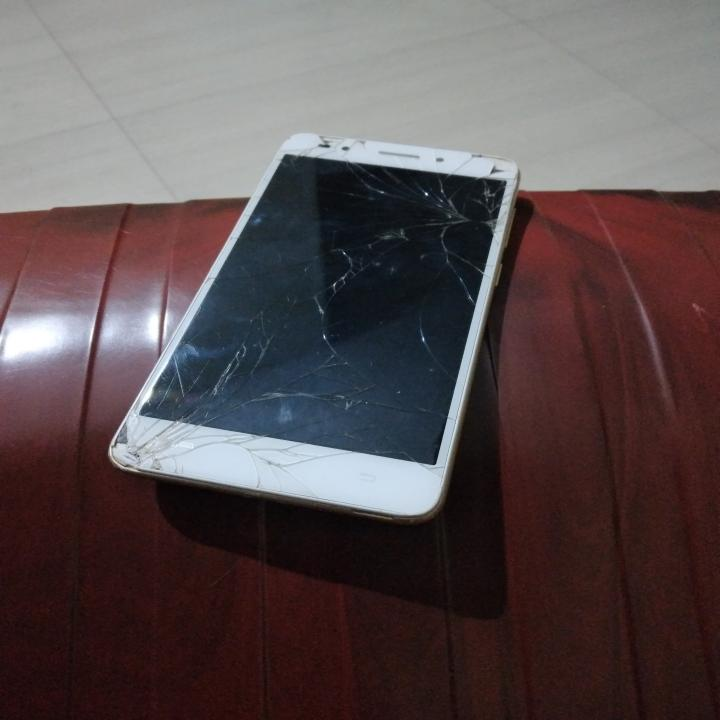Crack: (105, 305, 495, 500), (214, 134, 516, 324)
